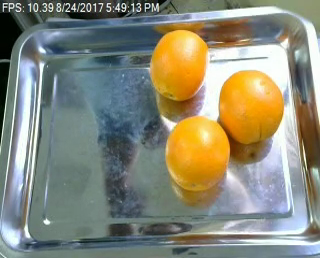Orange: (217, 70, 285, 144), (165, 114, 231, 190), (149, 29, 209, 102)
